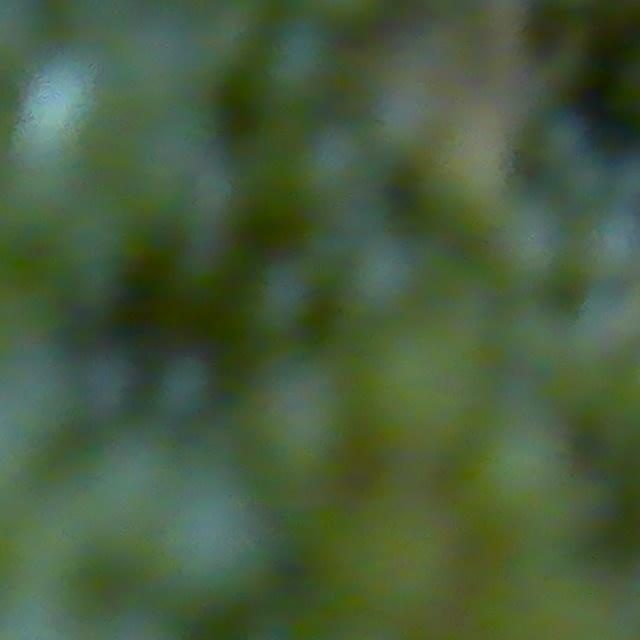SeaGrape: (242, 353, 357, 481), (12, 61, 102, 168), (487, 198, 572, 290), (259, 18, 342, 110), (341, 233, 426, 319), (290, 120, 374, 207), (244, 257, 321, 336), (576, 205, 640, 287), (152, 352, 215, 420)
